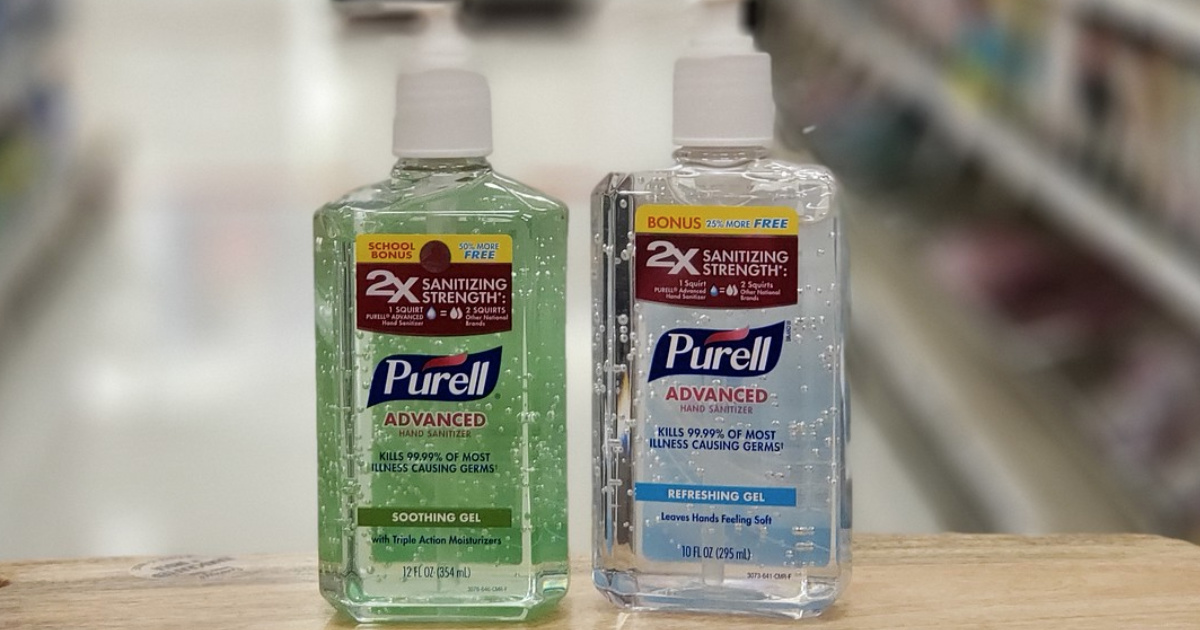Sanitizer: (581, 43, 861, 627), (308, 60, 580, 627)
